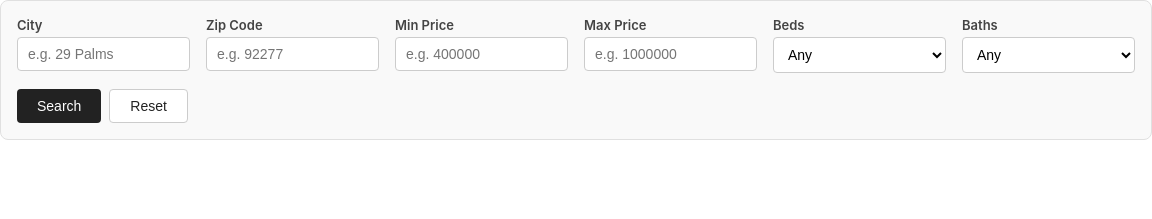
Test: PropertyFilters › shows validation error when minPrice is greater than or equal to maxPrice
Type "100000" into the field with placeholder "e.g. 400000" at (482, 54), box [395,37,568,71]
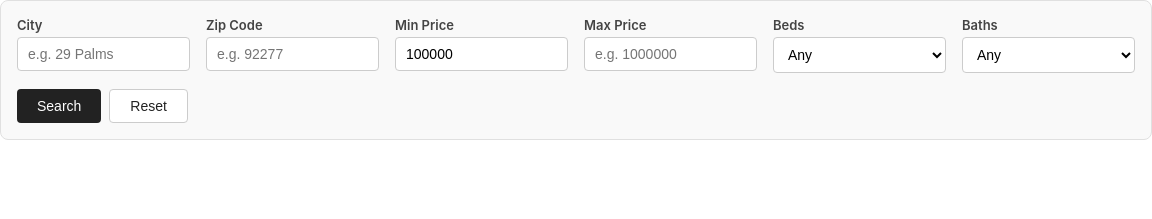
Type "90000" into the field with placeholder "e.g. 1000000" at (670, 54), box [584,37,757,71]
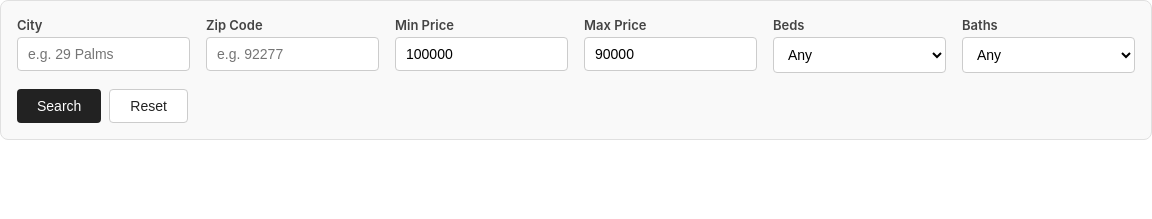
Click the button "Search" at (59, 106), box [17,89,101,123]
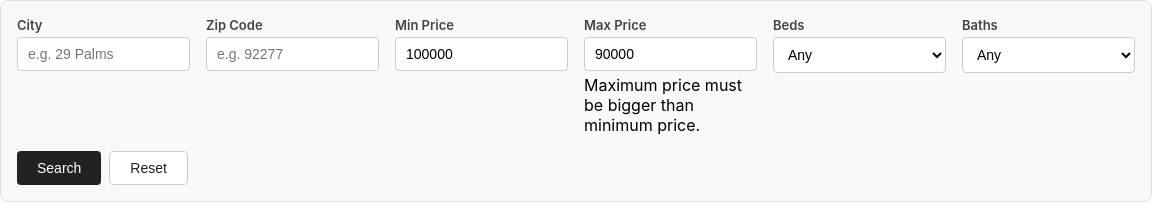
Now the text "Maximum price must be bigger than minimum price." is shown, box [584,75,757,135]
